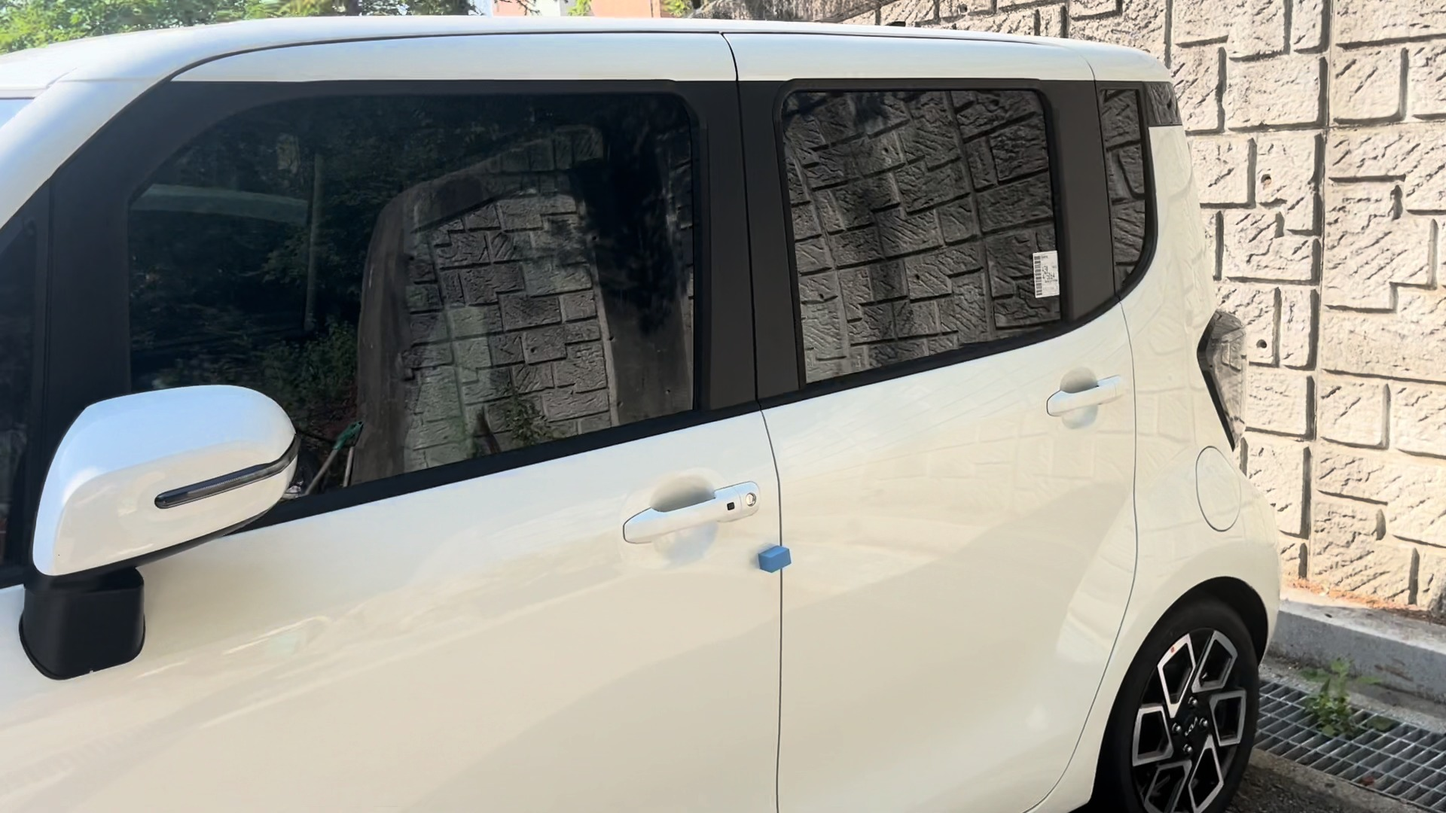door_handle: (616, 489, 759, 536), (1039, 377, 1124, 417)
fuel_cap: (1196, 447, 1245, 531)
side_mirror: (39, 387, 304, 571)
